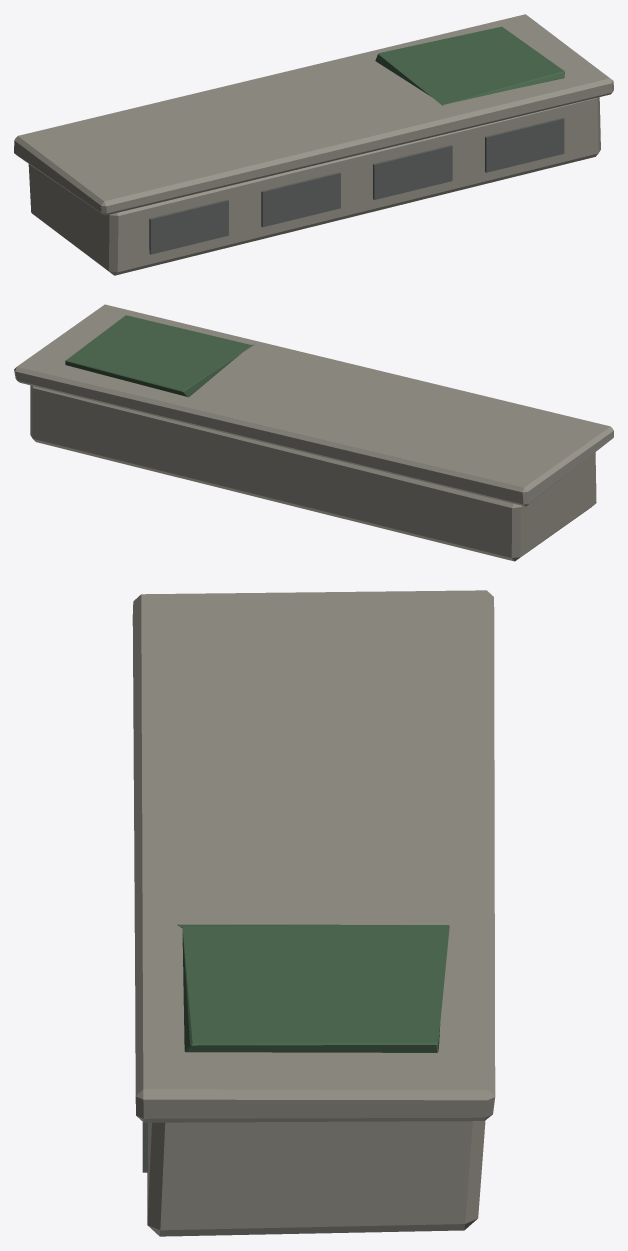
File: SM_RuinLintel.fbx
The picture shows the model from 3 angles, top to bottom: view 1: azimuth 30°, elevation 25°; view 2: azimuth 150°, elevation 25°; view 3: azimuth 270°, elevation 25°; orthographic projection. The views are drawn at different scales.
Parts seen in each view (by area): view 1: SM_RuinLintel; view 2: SM_RuinLintel; view 3: SM_RuinLintel.
Part boxes in pixels (x1=…): SM_RuinLintel: x1=14, y1=14, x2=613, y2=275; SM_RuinLintel: x1=14, y1=304, x2=613, y2=561; SM_RuinLintel: x1=132, y1=590, x2=495, y2=1236.
Bounding box in the file's own units: 461 × 74.8 × 141.
